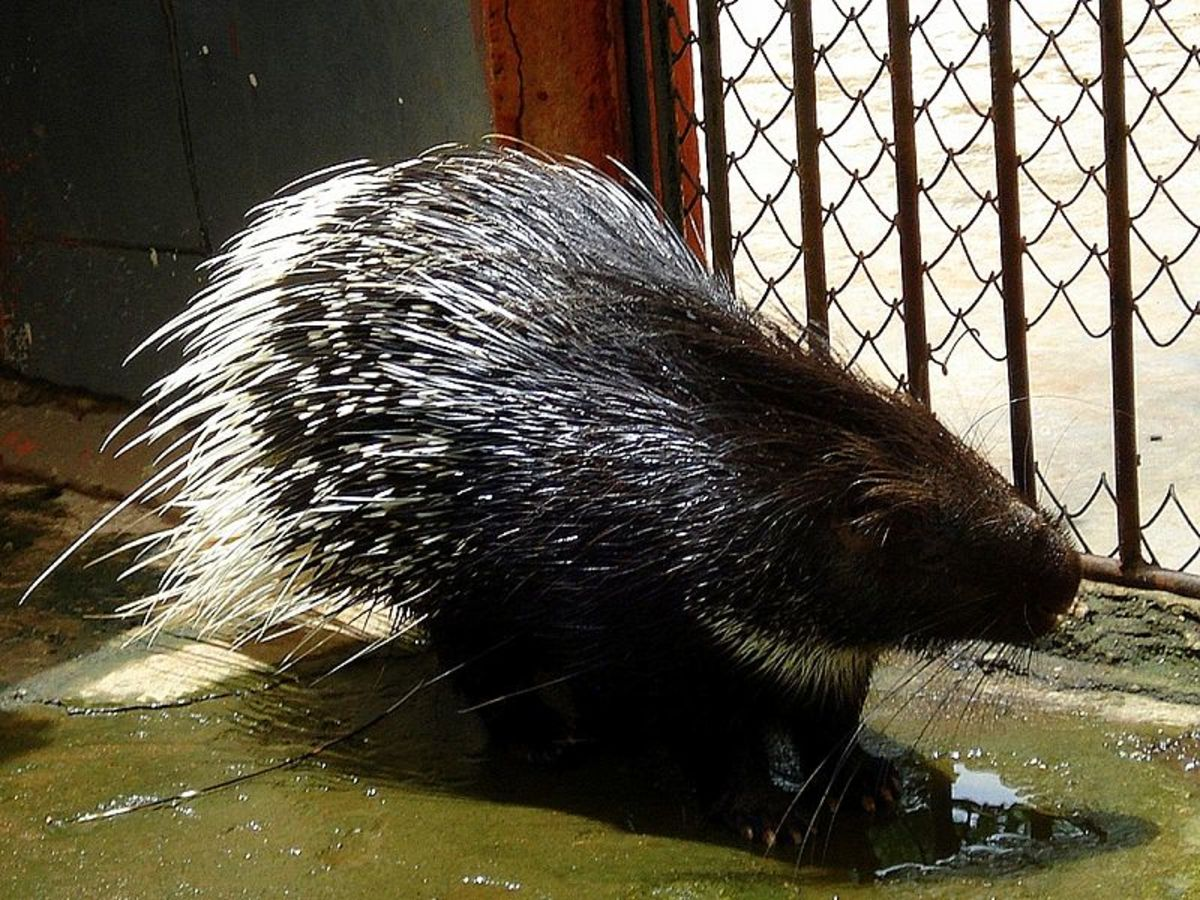porcupine: (118, 142, 1110, 805)
